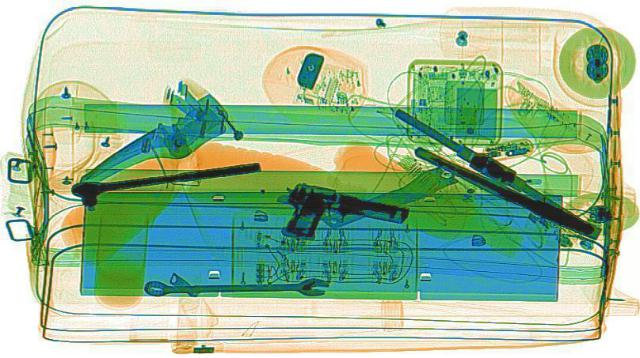Gun: (252, 179, 416, 253)
Wrench: (144, 275, 330, 295)
